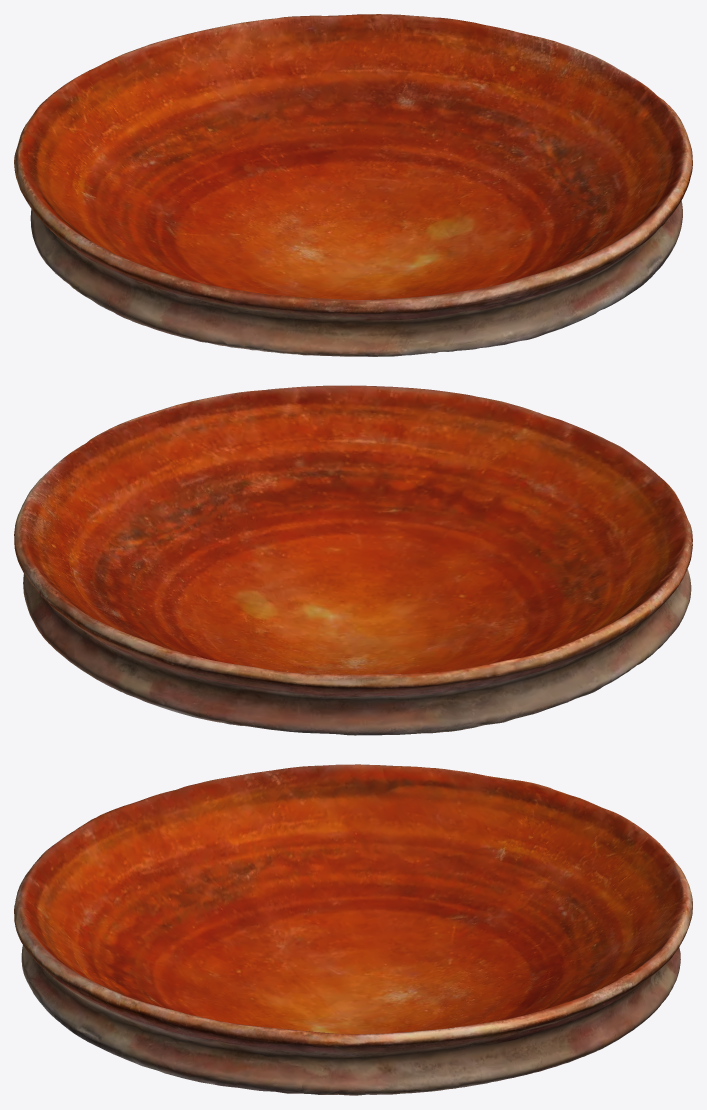
The picture shows the model from 3 angles, top to bottom: view 1: azimuth 30°, elevation 25°; view 2: azimuth 150°, elevation 25°; view 3: azimuth 270°, elevation 25°; orthographic projection.
Visible parts, largest first — view 1: Mesh_0.005; view 2: Mesh_0.005; view 3: Mesh_0.005.
Part boxes in pixels (x1,y1,x2,y2): Mesh_0.005: (14, 14, 692, 356); Mesh_0.005: (14, 385, 692, 735); Mesh_0.005: (14, 764, 692, 1095).
Bounding box in the file's own units: 0.2515 × 0.0548 × 0.2552.
1 material, 1 textured.
